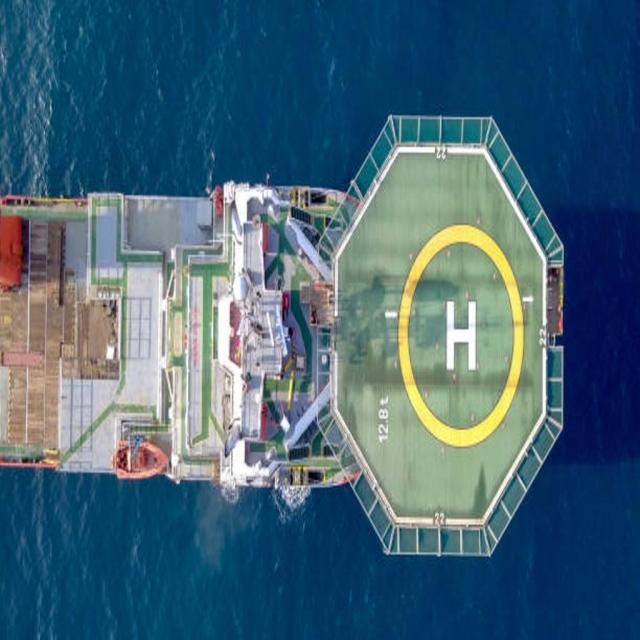helipad: (398, 223, 524, 448)
